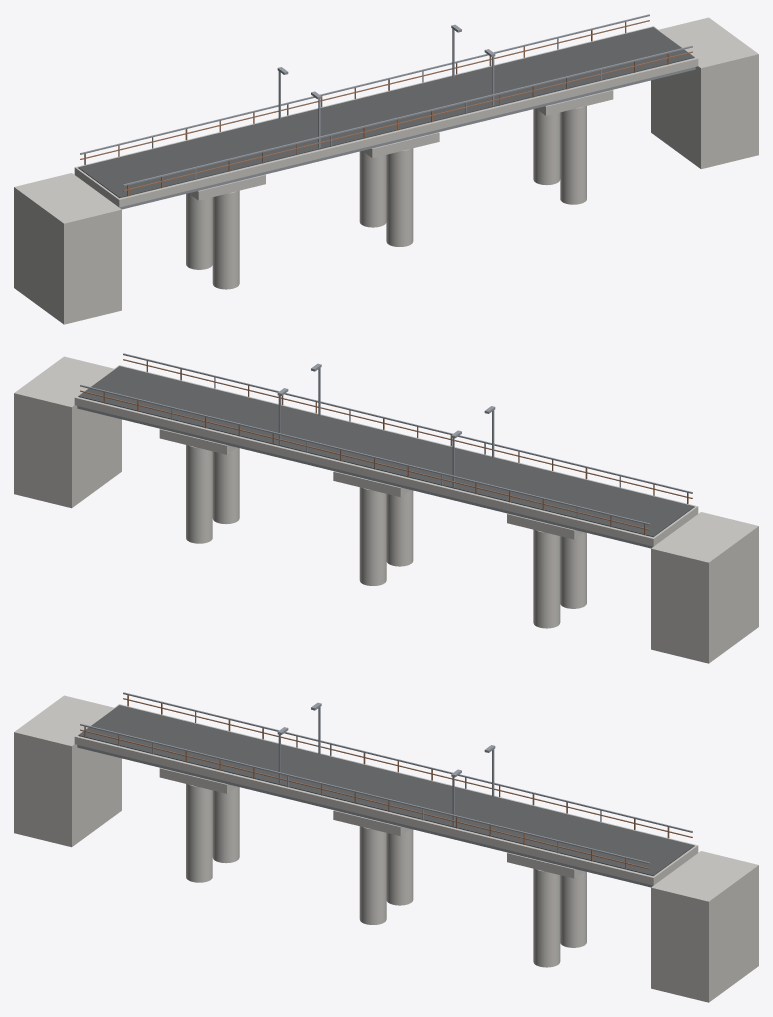
The model's file is bridge.glb.
The picture shows the model from 3 angles, top to bottom: view 1: azimuth 30°, elevation 25°; view 2: azimuth 150°, elevation 25°; view 3: azimuth 330°, elevation 25°; orthographic projection.
Parts seen in each view (by area): view 1: abutment (×2), asphalt, pier_column (×6), deck, railing_rail (×4), pier_cap (×3), girder; view 2: abutment (×2), asphalt, pier_column (×6), deck, railing_rail (×4), pier_cap (×3), girder; view 3: abutment (×2), asphalt, pier_column (×6), deck, railing_rail (×4), pier_cap (×3), girder.
Part boxes in pixels (left/top/right/bottom): abutment (×2): left=14, top=17, right=758, bottom=324; asphalt: left=78, top=27, right=694, bottom=198; pier_column (×6): left=186, top=106, right=586, bottom=289; deck: left=74, top=26, right=698, bottom=207; railing_rail (×4): left=80, top=14, right=692, bottom=191; pier_cap (×3): left=189, top=90, right=613, bottom=200; girder: left=119, top=67, right=695, bottom=209; abutment (×2): left=14, top=356, right=758, bottom=663; asphalt: left=78, top=366, right=694, bottom=537; pier_column (×6): left=186, top=445, right=586, bottom=628; deck: left=74, top=365, right=698, bottom=546; railing_rail (×4): left=80, top=353, right=692, bottom=530; pier_cap (×3): left=159, top=429, right=583, bottom=539; girder: left=77, top=406, right=653, bottom=548; abutment (×2): left=14, top=695, right=758, bottom=1002; asphalt: left=78, top=705, right=694, bottom=876; pier_column (×6): left=186, top=784, right=586, bottom=967; deck: left=74, top=704, right=698, bottom=885; railing_rail (×4): left=80, top=692, right=692, bottom=869; pier_cap (×3): left=159, top=768, right=583, bottom=878; girder: left=77, top=745, right=653, bottom=887.
Size of the model in its own units: 72 by 16.91 by 9.
